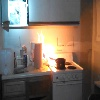fire: (37, 30, 56, 71)
